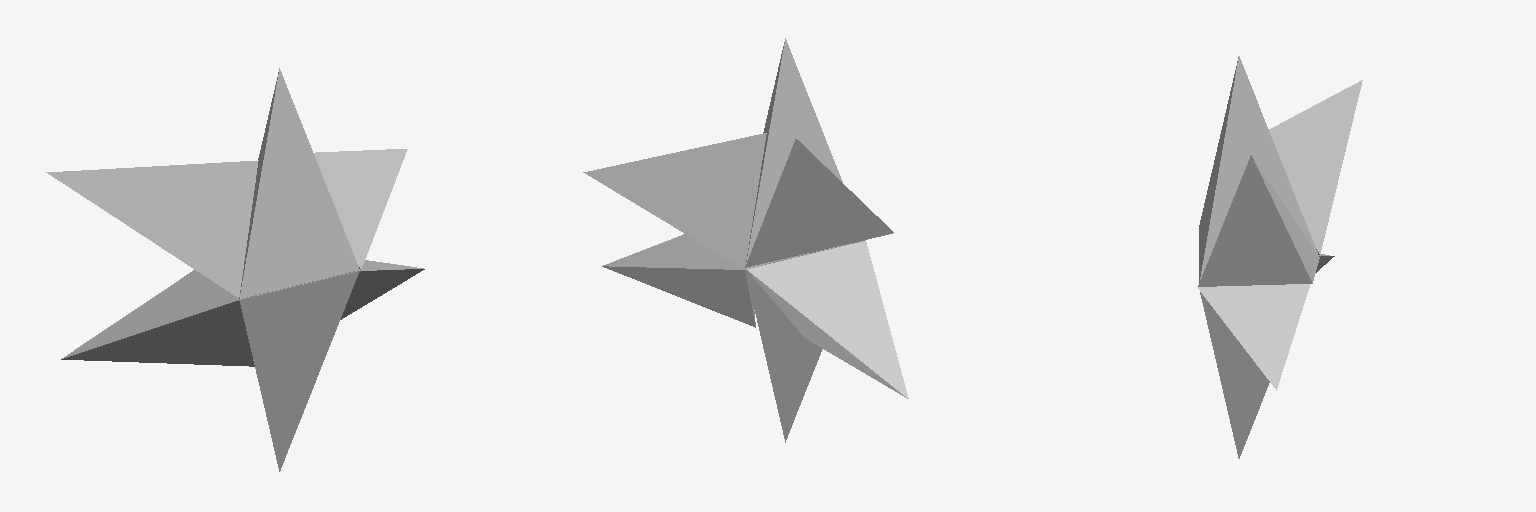
The model's file is Snowflake.obj.
3 views of the same model, side by side, from view 1: azimuth 30°, elevation 25°; view 2: azimuth 150°, elevation 25°; view 3: azimuth 270°, elevation 25° (orthographic).
Parts seen in each view (by area): view 1: Cone.005_Cone.008, Cone_Cone.002, Cone.001_Cone.004, Cone.002_Cone.005, Cone.004_Cone.007, Cone.003_Cone.006; view 2: Cone.004_Cone.007, Cone.002_Cone.005, Cone.005_Cone.008, Cone.003_Cone.006, Cone_Cone.002, Cone.001_Cone.004; view 3: Cone.004_Cone.007, Cone.005_Cone.008, Cone_Cone.002, Cone.003_Cone.006, Cone.001_Cone.004.
Boxes of the visible parts, box(x1,y1,x2,y2) form: Cone.005_Cone.008: box(46, 160, 258, 297); Cone_Cone.002: box(239, 68, 359, 299); Cone.001_Cone.004: box(239, 270, 358, 471); Cone.002_Cone.005: box(61, 270, 254, 366); Cone.004_Cone.007: box(314, 149, 407, 269); Cone.003_Cone.006: box(341, 260, 424, 319); Cone.004_Cone.007: box(583, 133, 766, 269); Cone.002_Cone.005: box(747, 241, 908, 398); Cone.005_Cone.008: box(745, 139, 893, 267); Cone.003_Cone.006: box(602, 234, 755, 327); Cone_Cone.002: box(745, 38, 865, 269); Cone.001_Cone.004: box(745, 240, 864, 442); Cone.004_Cone.007: box(1198, 155, 1319, 286); Cone.005_Cone.008: box(1269, 80, 1362, 254); Cone_Cone.002: box(1199, 56, 1318, 282); Cone.003_Cone.006: box(1197, 284, 1309, 390); Cone.001_Cone.004: box(1200, 292, 1269, 458).
Bounding box in the file's own units: 0.2409 × 0.2771 × 0.1028.